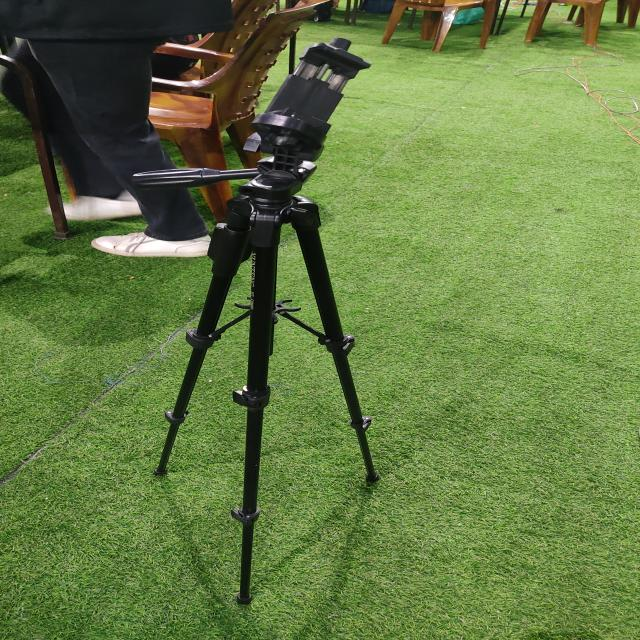Camer Stand: (125, 35, 390, 606)
